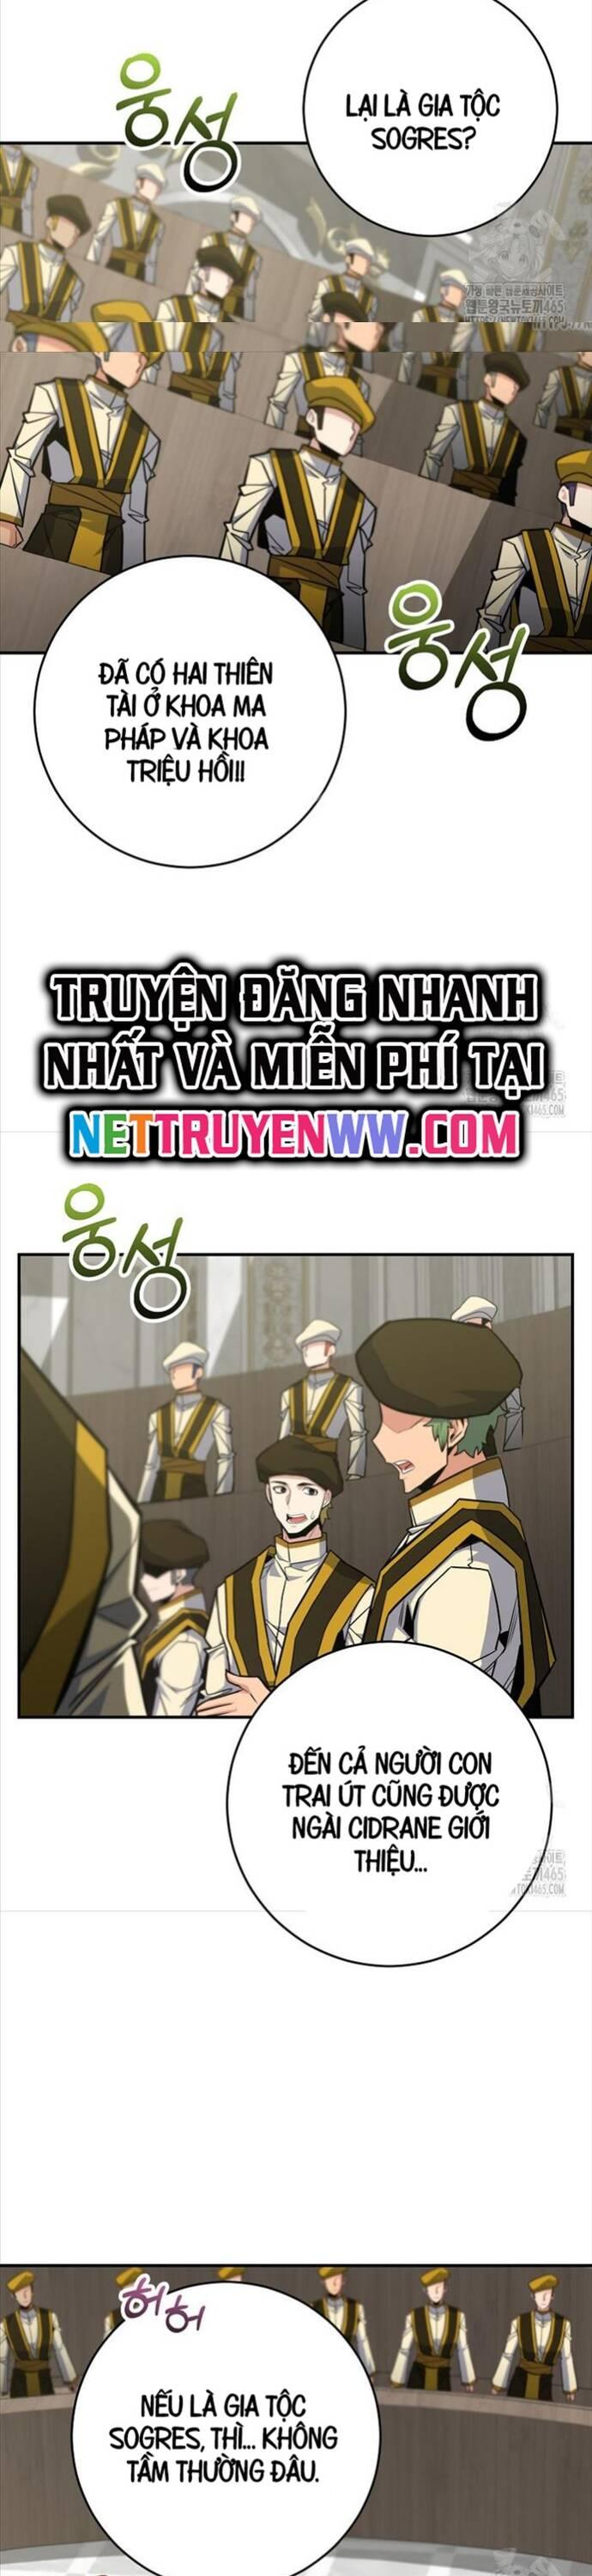quangcao: (34, 950, 558, 1176)
